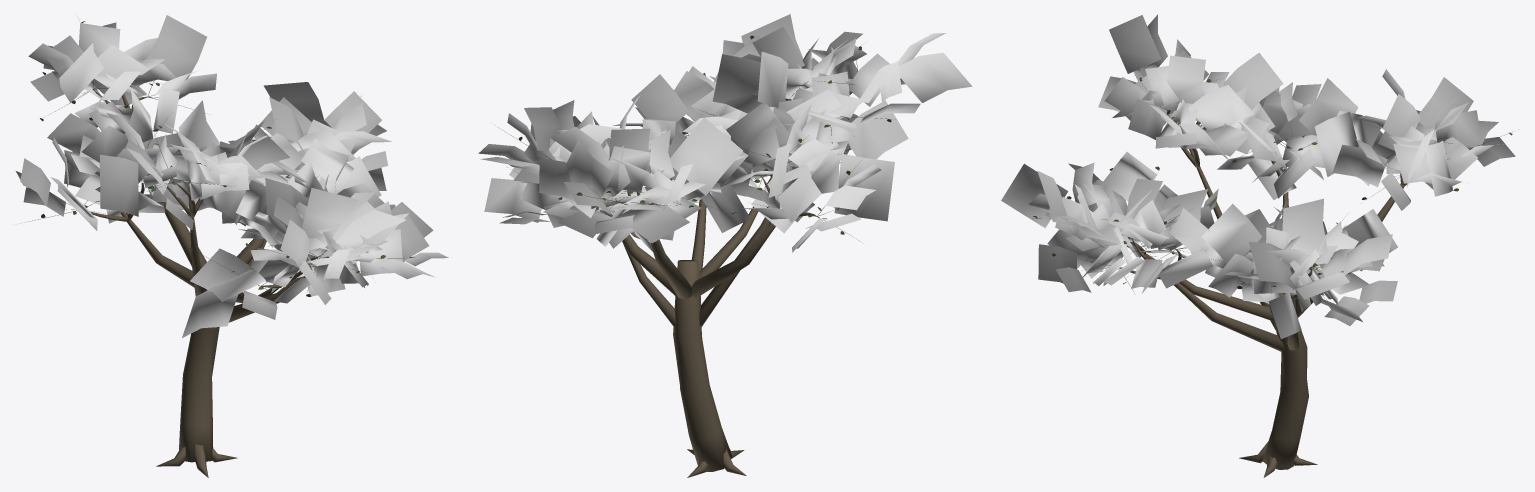
Rendered from V7_CheneVert_1_Niveau1.fbx.
3 views of the same model, side by side, from view 1: azimuth 30°, elevation 25°; view 2: azimuth 150°, elevation 25°; view 3: azimuth 270°, elevation 25° (orthographic). The views are drawn at different scales.
Visible parts, largest first — view 1: V7_CheneVert_1_Detail1; view 2: V7_CheneVert_1_Detail1; view 3: V7_CheneVert_1_Detail1.
Part boxes in pixels (x1,y1,x2,y2): V7_CheneVert_1_Detail1: (16,15,448,477); V7_CheneVert_1_Detail1: (478,14,972,477); V7_CheneVert_1_Detail1: (1001,14,1515,477).
Size of the model in its own units: 647 by 658 by 806.
